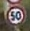limite 50: (4, 3, 26, 25)
